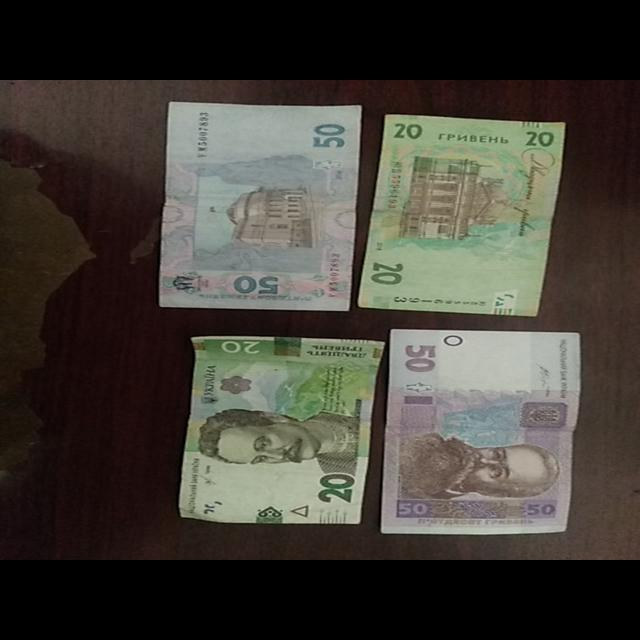20uah: (359, 114, 566, 314), (179, 332, 384, 525)
50uah: (161, 102, 363, 315), (381, 329, 579, 532)
